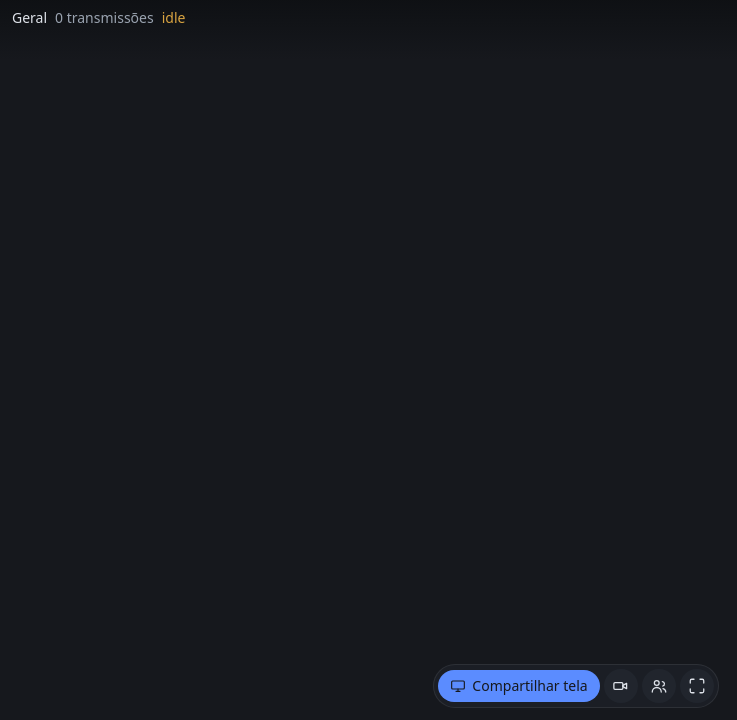
Scenario: quem está na sala (issue #10) › lista as pessoas mesmo com o vídeo ocupando a janela
Step 1. Click the button named "Quem está aqui (2)" → x=659, y=686, box [642,669,676,703]
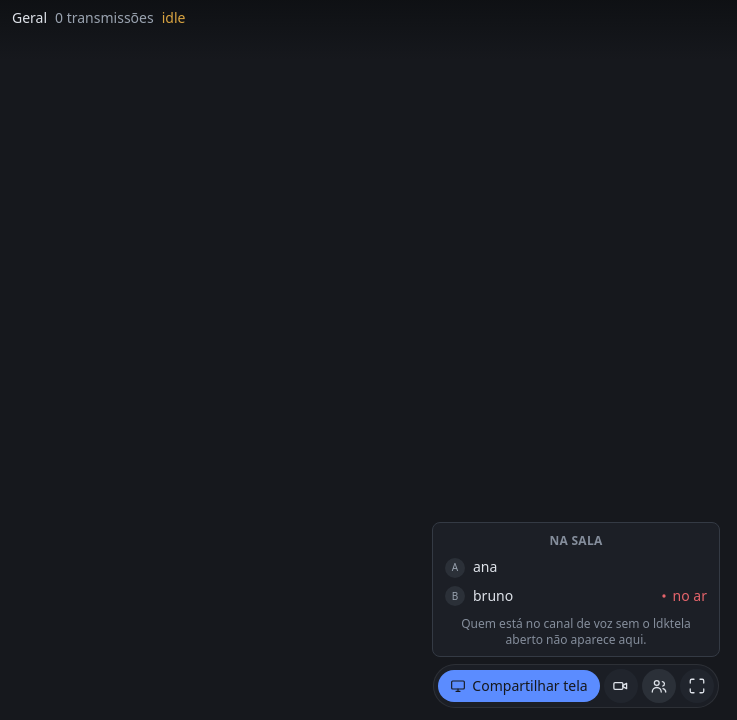
expect the text "ana" is shown: met, box [473,557,497,576]
expect the text "bruno" is shown: met, box [473,586,513,605]
expect the text "no ar" is shown: met, box [659,586,707,606]
